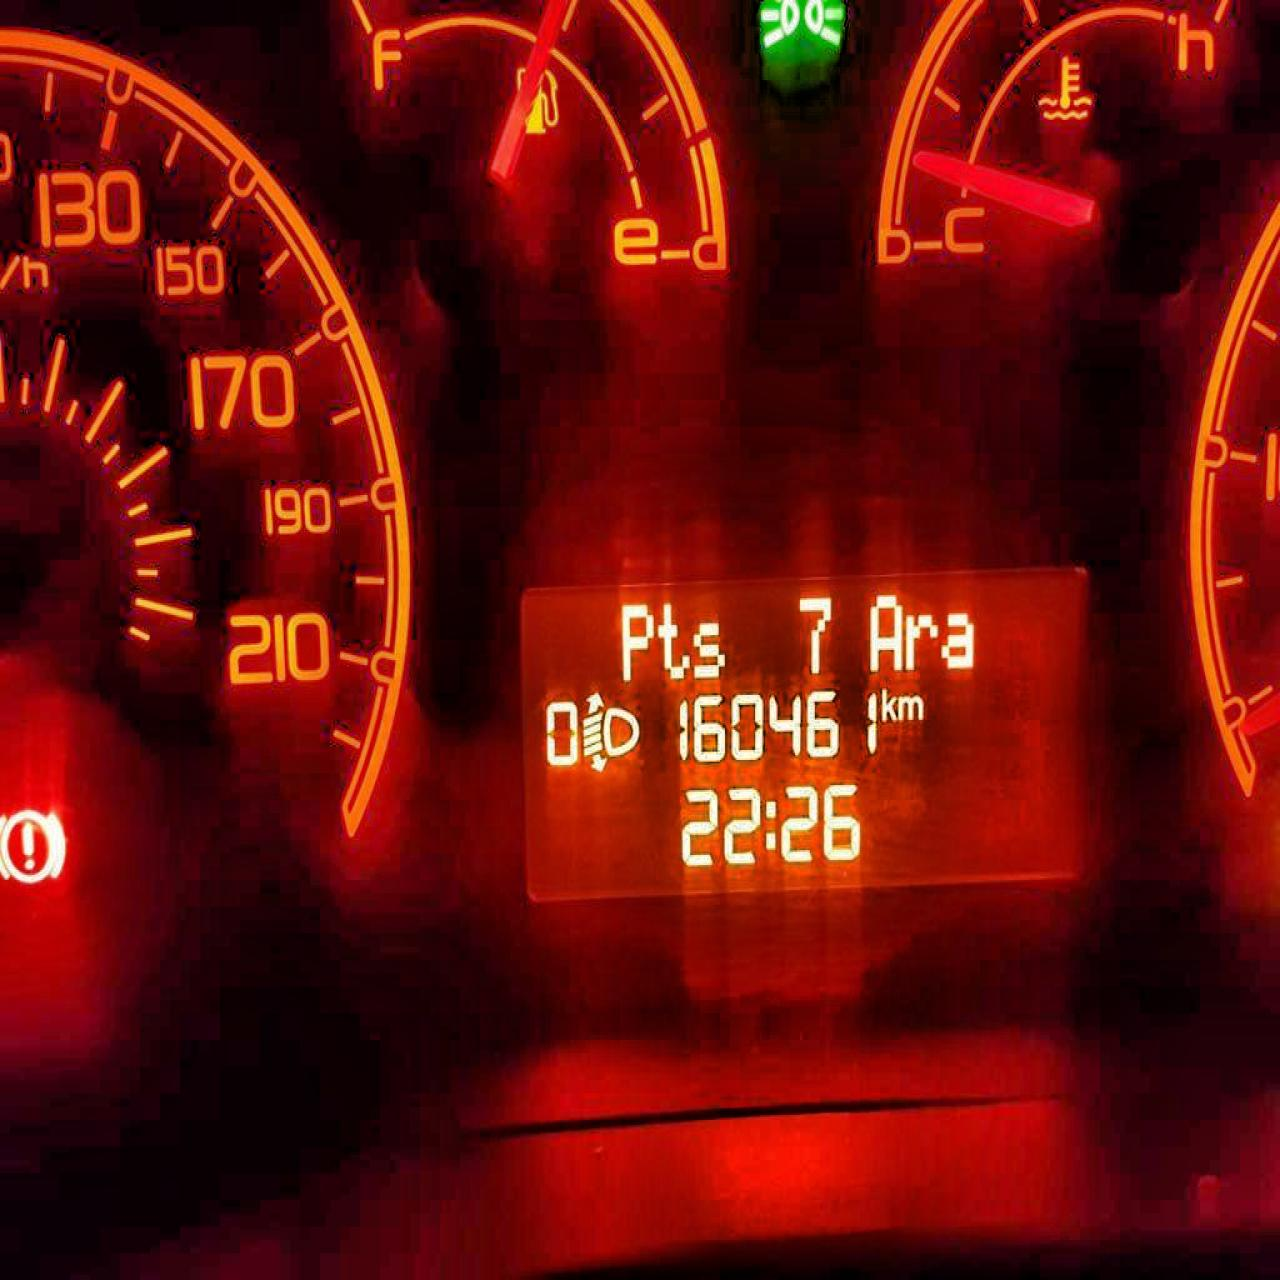0: (726, 688, 765, 762), (542, 695, 580, 768)
1: (855, 686, 880, 757), (670, 695, 692, 763)
2: (676, 782, 719, 869), (722, 779, 763, 869), (778, 778, 817, 866)
4: (767, 689, 803, 758)
6: (818, 778, 864, 866), (804, 683, 840, 762), (693, 690, 727, 765)
7: (794, 588, 835, 680)
X: (615, 594, 655, 683), (864, 588, 904, 674), (656, 597, 692, 681), (939, 606, 978, 672), (692, 615, 728, 682), (903, 607, 939, 673), (897, 689, 925, 723), (763, 794, 777, 855), (880, 682, 898, 726)
odometer: (510, 558, 1094, 912)
